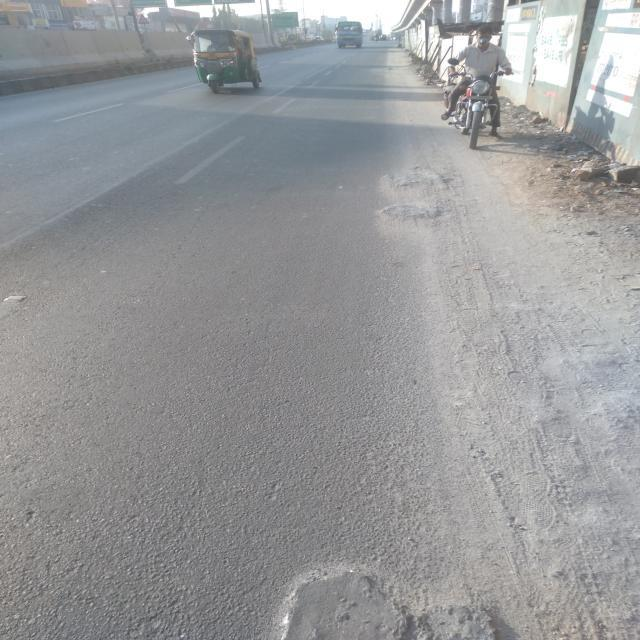auto_front: (183, 24, 266, 100)
two_wheeler_front: (440, 55, 514, 157)
